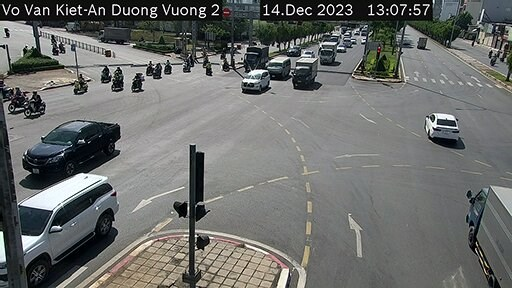car: (6, 174, 116, 269), (27, 121, 127, 169), (418, 111, 463, 141), (238, 69, 267, 95), (272, 51, 290, 82)
motorbike: (18, 91, 43, 117), (7, 84, 19, 112), (72, 72, 86, 95)
truck: (462, 182, 512, 287), (294, 56, 322, 92), (248, 37, 268, 71), (321, 37, 336, 67)
